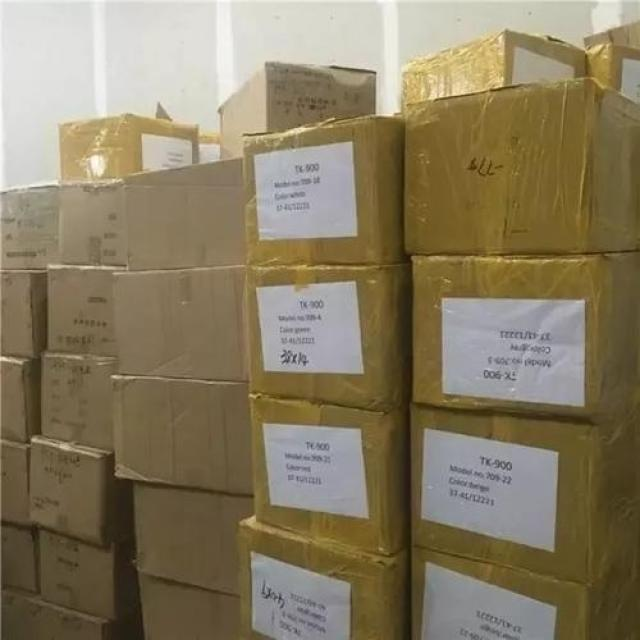box: (403, 76, 640, 253), (410, 404, 640, 584), (412, 253, 640, 421), (250, 393, 410, 554), (244, 114, 410, 266), (247, 264, 411, 412), (411, 545, 640, 640), (238, 516, 411, 640), (111, 375, 255, 495), (218, 61, 376, 161), (113, 266, 248, 381), (133, 480, 256, 596), (401, 29, 585, 106), (123, 159, 246, 273), (58, 104, 198, 179), (28, 436, 109, 547), (40, 353, 116, 453), (46, 265, 127, 357), (38, 526, 114, 622), (138, 571, 236, 640), (0, 585, 114, 640), (58, 178, 127, 266), (0, 184, 59, 269), (0, 269, 46, 360), (0, 357, 41, 445), (584, 41, 640, 104), (0, 442, 35, 527), (0, 522, 38, 595)
